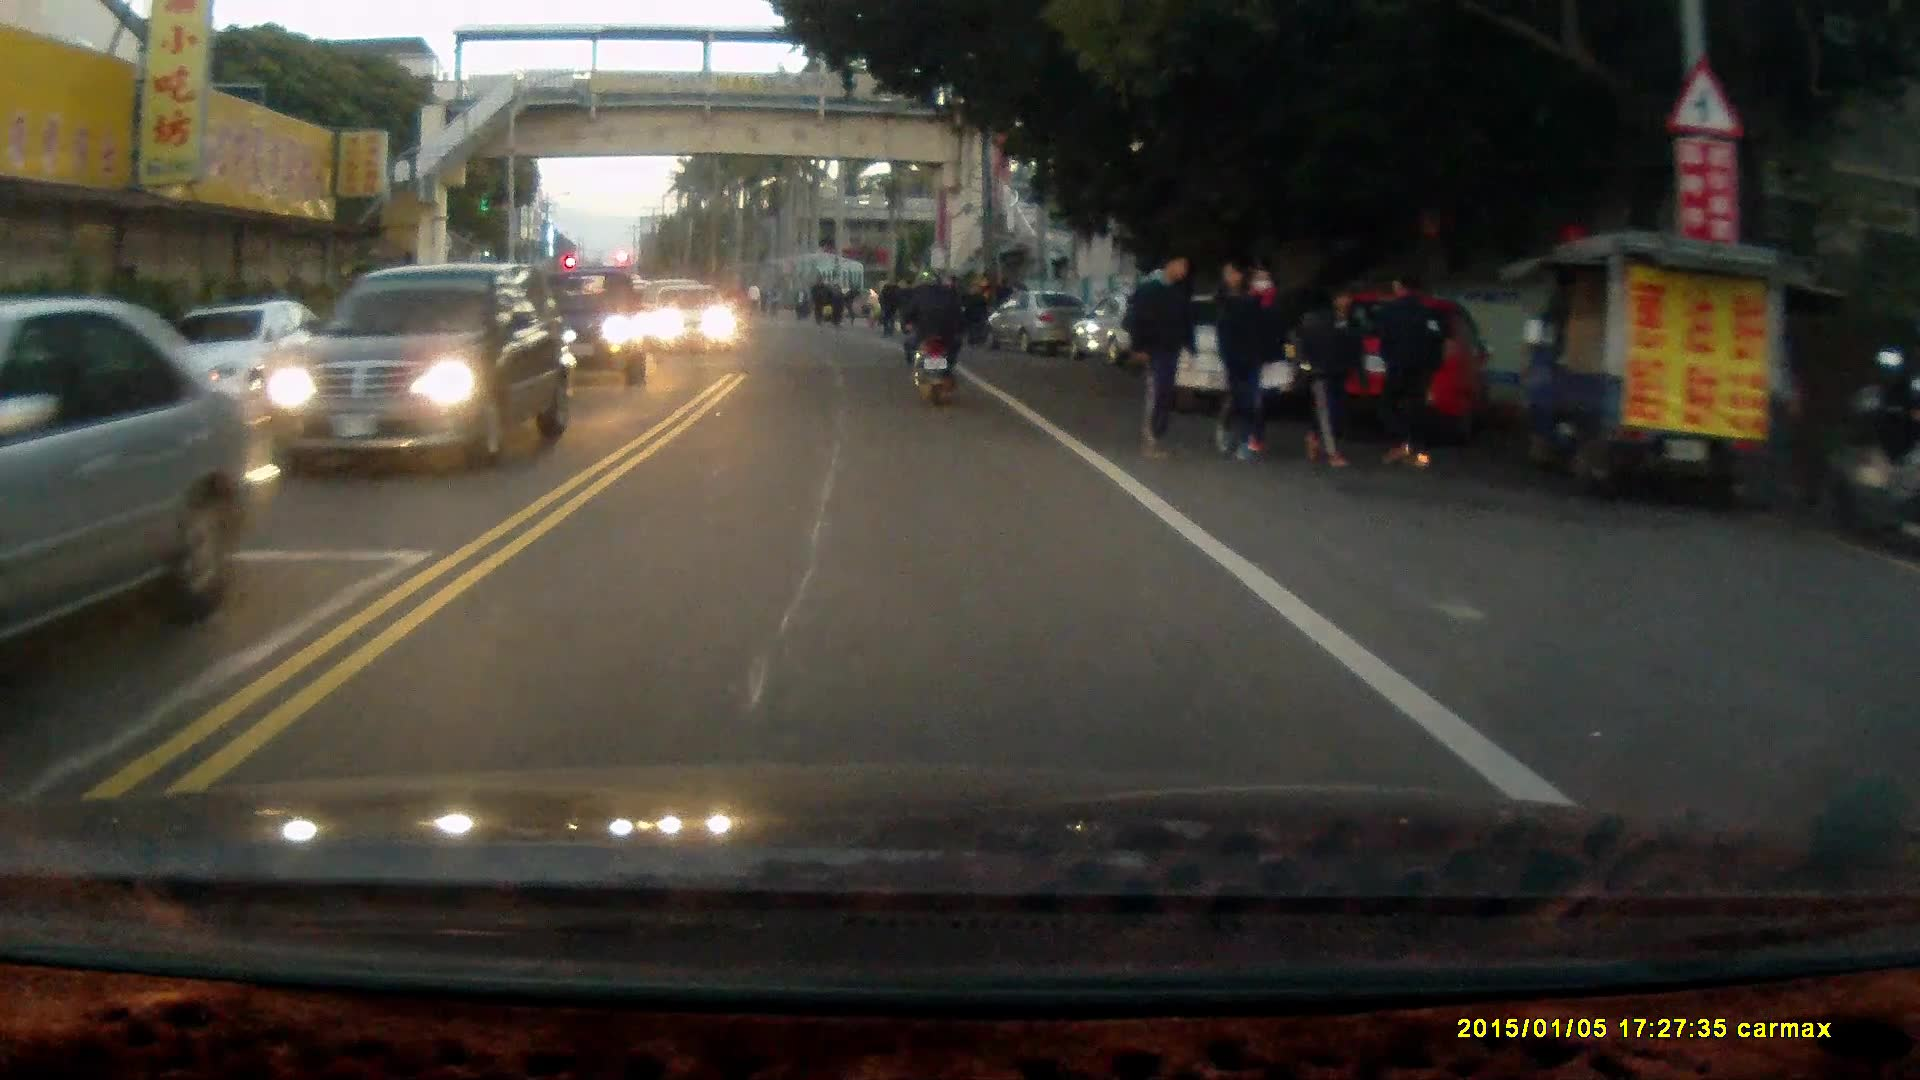pedestrian: (1122, 243, 1199, 462), (1374, 271, 1446, 473), (1301, 282, 1377, 468), (1207, 253, 1273, 461), (1228, 260, 1282, 448)
rider: (894, 270, 964, 407)
vehicle: (1, 310, 256, 693), (275, 260, 577, 473), (1284, 291, 1489, 447), (1151, 287, 1362, 426), (515, 270, 649, 391), (1068, 288, 1199, 366), (984, 292, 1092, 357), (654, 286, 744, 358)
